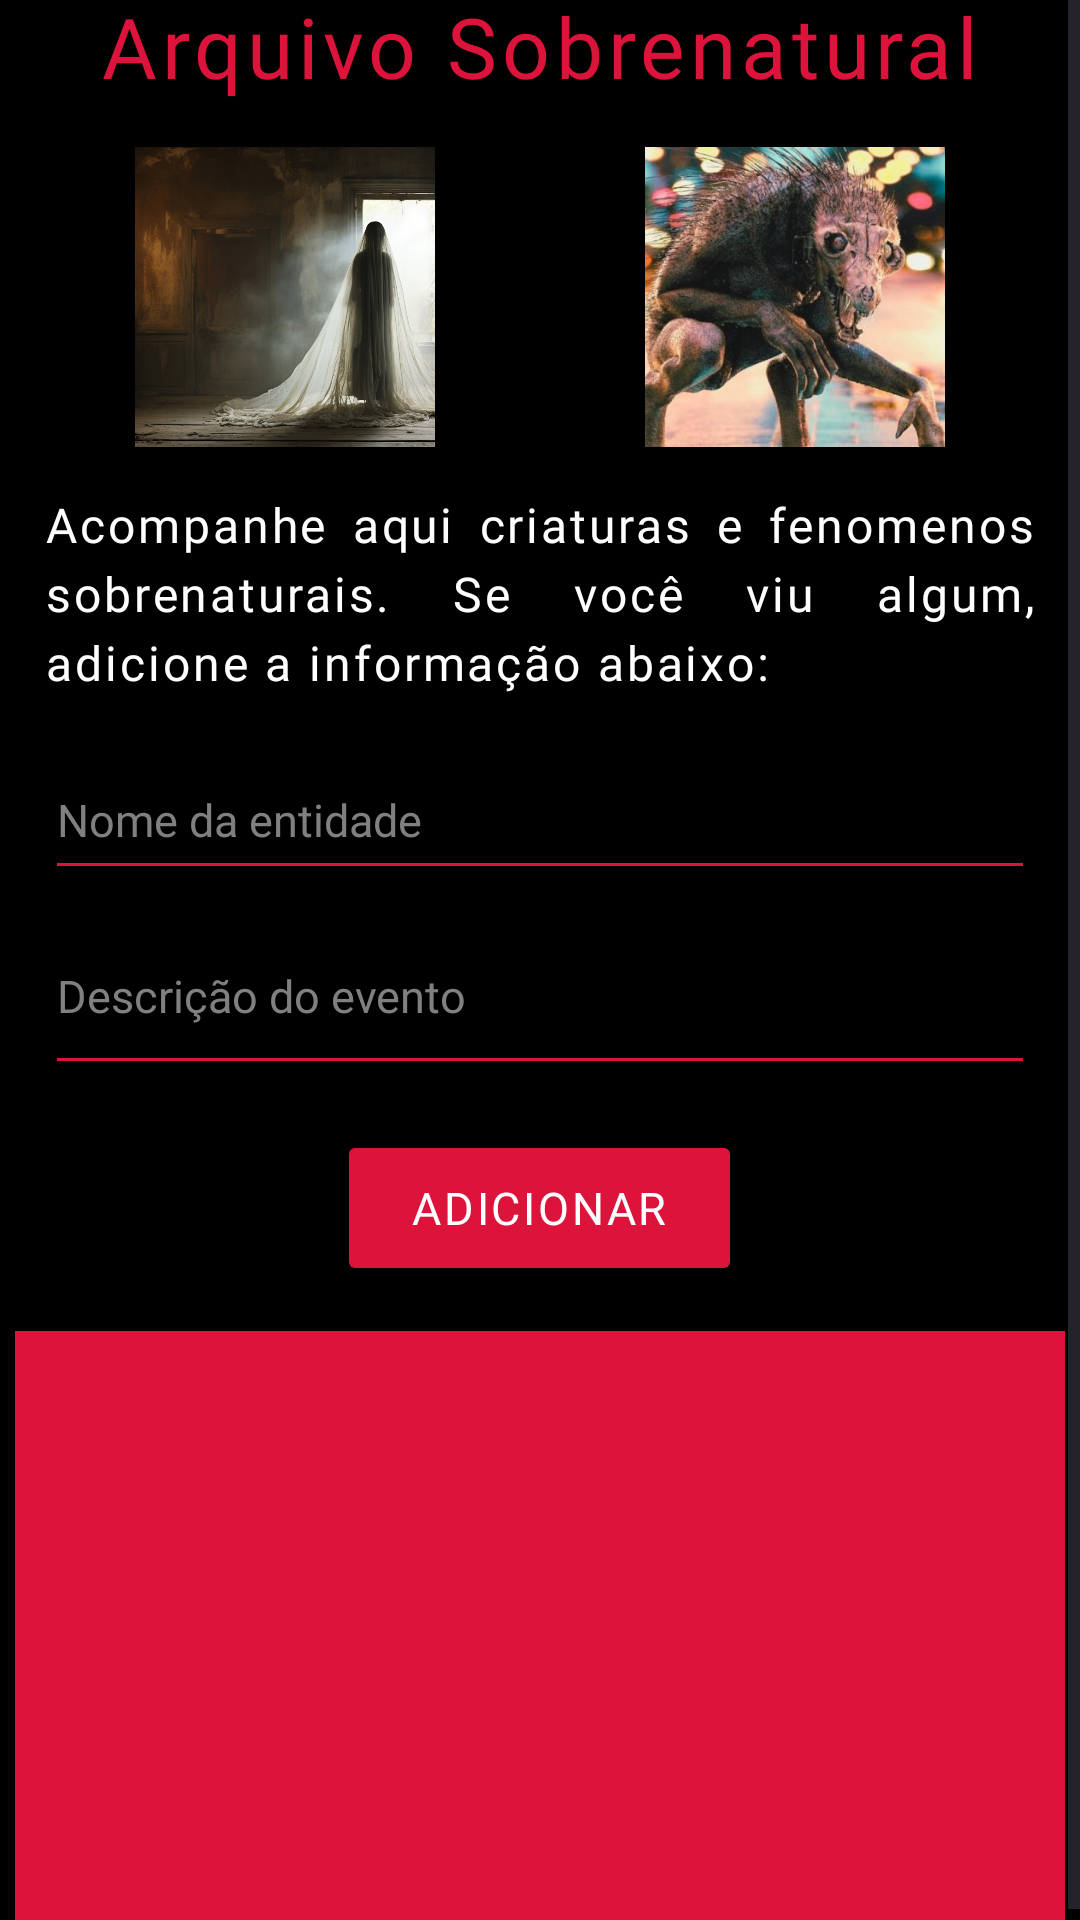

Icons on this 1080px x 1920px Android screen, each with its box as (x1, y1, x2, y2):
fantasmas: (135, 147, 435, 447)
